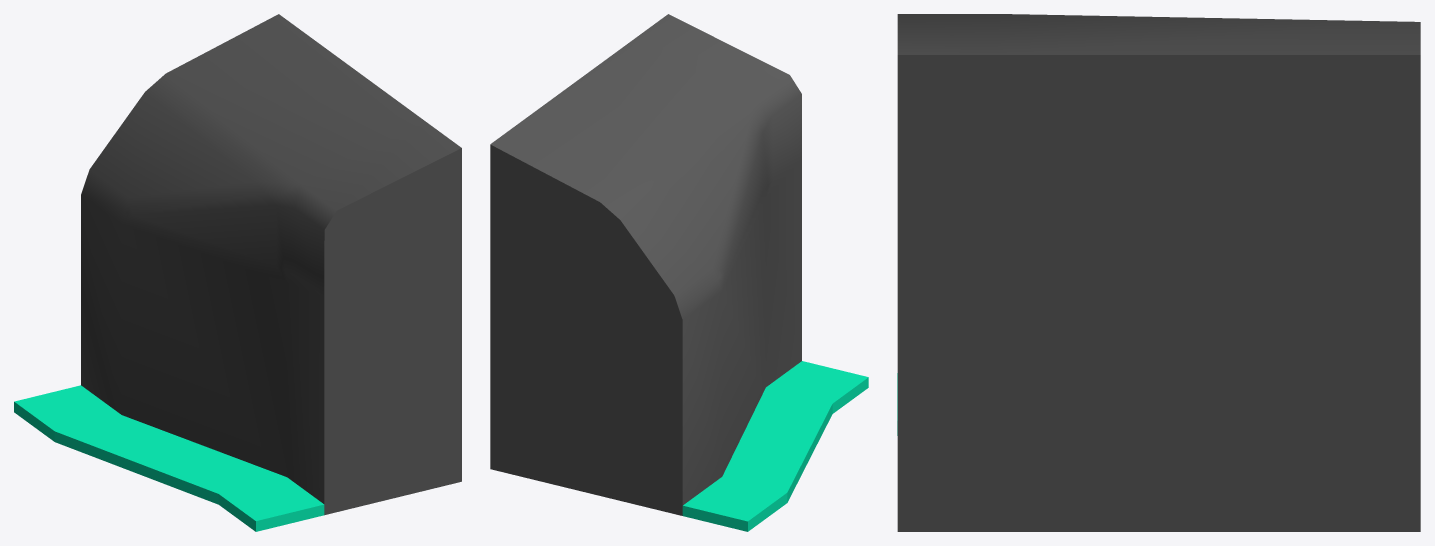
Rendered from CorridorDownPillar_04.fbx.
3 views of the same model, side by side, from view 1: azimuth 30°, elevation 25°; view 2: azimuth 150°, elevation 25°; view 3: azimuth 270°, elevation 25° (orthographic). The views are drawn at different scales.
Parts seen in each view (by area): view 1: Box181, CorridorDownPillar_04; view 2: Box181, CorridorDownPillar_04; view 3: Box181.
Part boxes in pixels (bbox=[...]): Box181: bbox=[81, 14, 461, 515]; CorridorDownPillar_04: bbox=[14, 385, 324, 531]; Box181: bbox=[490, 14, 801, 515]; CorridorDownPillar_04: bbox=[682, 361, 868, 531]; Box181: bbox=[897, 14, 1420, 531].
Size of the model in its own units: 83.52 by 100 by 101.
